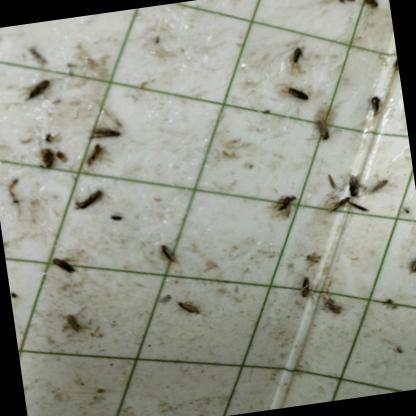prays_oleae: (266, 183, 307, 231), (44, 244, 78, 284), (22, 76, 58, 110), (72, 186, 108, 216), (152, 234, 182, 270), (172, 294, 205, 326), (86, 118, 123, 146), (292, 269, 316, 306), (282, 80, 312, 107), (58, 310, 85, 338), (81, 141, 107, 170), (312, 112, 334, 146), (364, 92, 386, 126), (286, 40, 308, 72), (344, 167, 363, 201), (320, 291, 341, 319), (327, 192, 353, 214), (300, 245, 324, 268), (348, 198, 370, 221), (368, 178, 390, 200), (402, 244, 416, 278), (335, 0, 361, 15), (326, 170, 342, 193), (360, 0, 380, 14)
